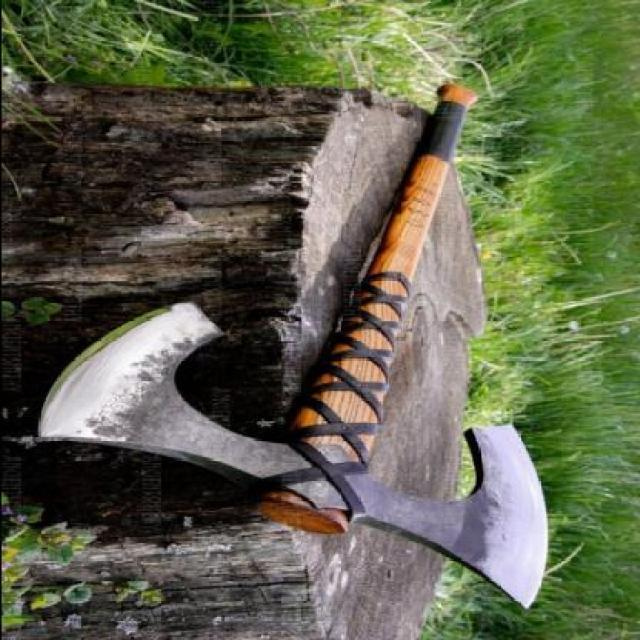weapon: (34, 80, 565, 612)
